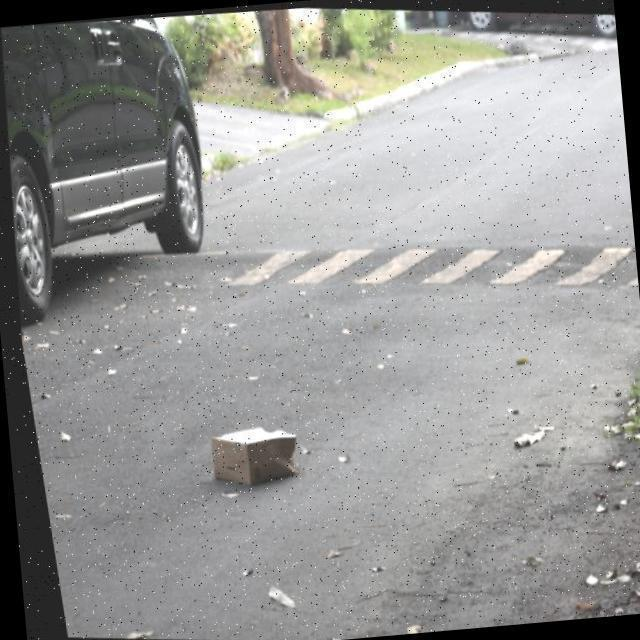Paper_Bag: (198, 416, 300, 494)
